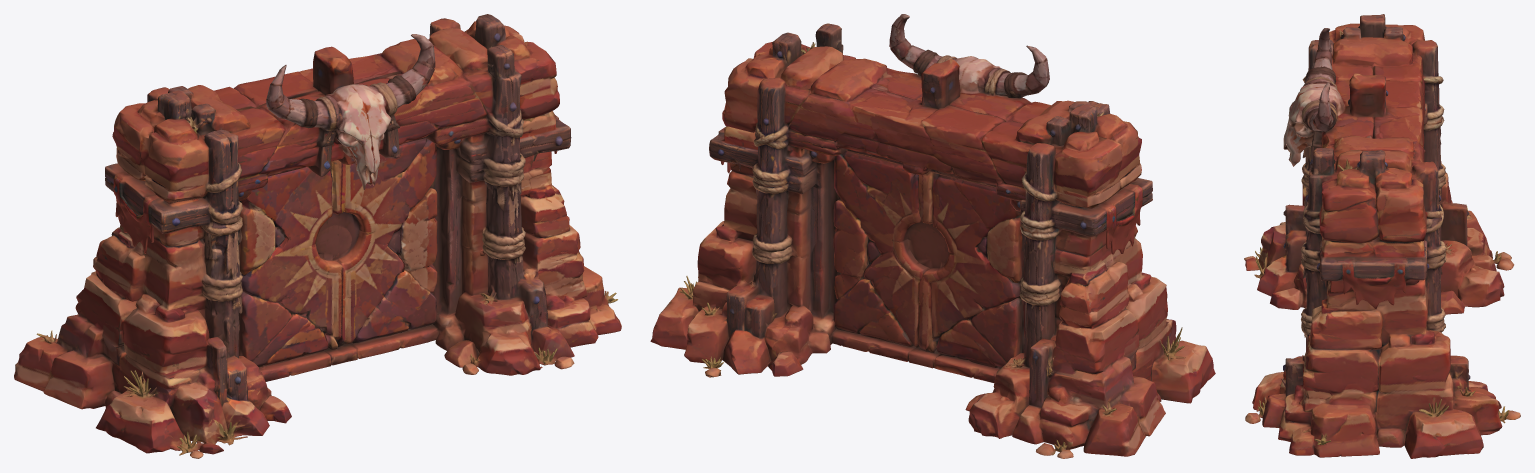
File: boss_door_red_canyon.glb
3 views of the same model, side by side, from view 1: azimuth 30°, elevation 25°; view 2: azimuth 150°, elevation 25°; view 3: azimuth 270°, elevation 25° (orthographic). The views are drawn at different scales.
Parts seen in each view (by area): view 1: tripo_node_1dec6cd5-6ee9-4aa9-af71-f98cb969a746; view 2: tripo_node_1dec6cd5-6ee9-4aa9-af71-f98cb969a746; view 3: tripo_node_1dec6cd5-6ee9-4aa9-af71-f98cb969a746.
Boxes of the visible parts, bbox=[...] form: tripo_node_1dec6cd5-6ee9-4aa9-af71-f98cb969a746: bbox=[14, 14, 621, 458]; tripo_node_1dec6cd5-6ee9-4aa9-af71-f98cb969a746: bbox=[650, 14, 1215, 458]; tripo_node_1dec6cd5-6ee9-4aa9-af71-f98cb969a746: bbox=[1244, 14, 1520, 458].
Bounding box in the file's own units: 1 × 0.602 × 0.5205.
Materials: 1 (1 with a texture image).
